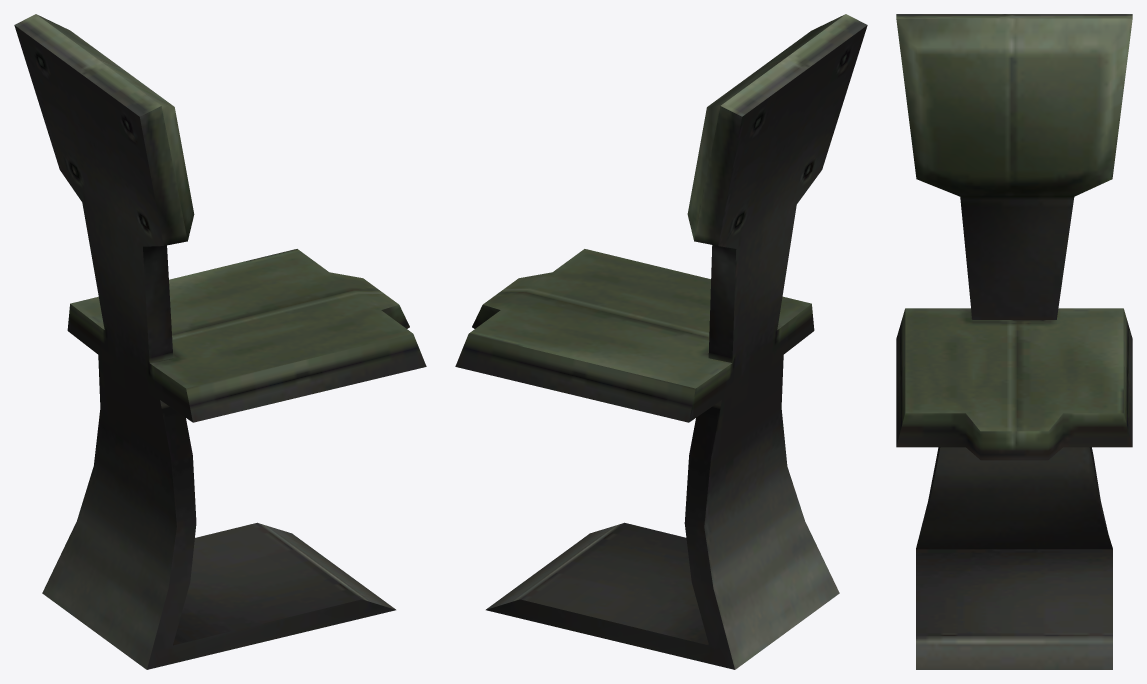
Rendered from CHAIR1.glb.
The picture shows the model from 3 angles, left to right: view 1: azimuth 30°, elevation 25°; view 2: azimuth 150°, elevation 25°; view 3: azimuth 270°, elevation 25°; orthographic projection. The views are drawn at different scales.
Parts seen in each view (by area): view 1: cube5; view 2: cube5; view 3: cube5.
Part boxes in pixels (left/top/right/bottom): cube5: left=14, top=14, right=426, bottom=669; cube5: left=455, top=14, right=867, bottom=669; cube5: left=896, top=14, right=1132, bottom=669.
Size of the model in its own units: 29 by 50.28 by 20.
Materials: 1 (1 with a texture image).
